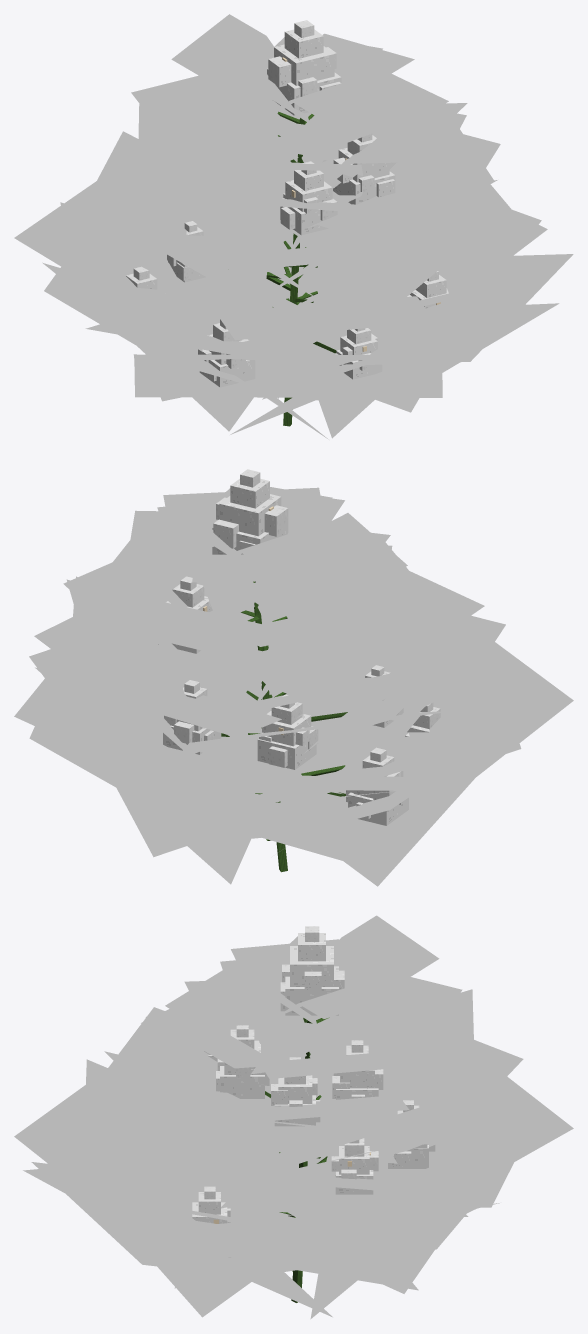
Rendered from plant_3_1_2.obj.
3 renders of one model, top to bottom at view 1: azimuth 30°, elevation 25°; view 2: azimuth 150°, elevation 25°; view 3: azimuth 270°, elevation 25°, orthographic. The views are drawn at different scales.
Visible parts, largest first — view 1: model; view 2: model; view 3: model.
Boxes of the visible parts, bbox=[...] form: model: bbox=[14, 14, 573, 439]; model: bbox=[14, 469, 573, 886]; model: bbox=[14, 915, 573, 1319].
Size of the model in its own units: 1.03 by 0.848 by 1.12.
